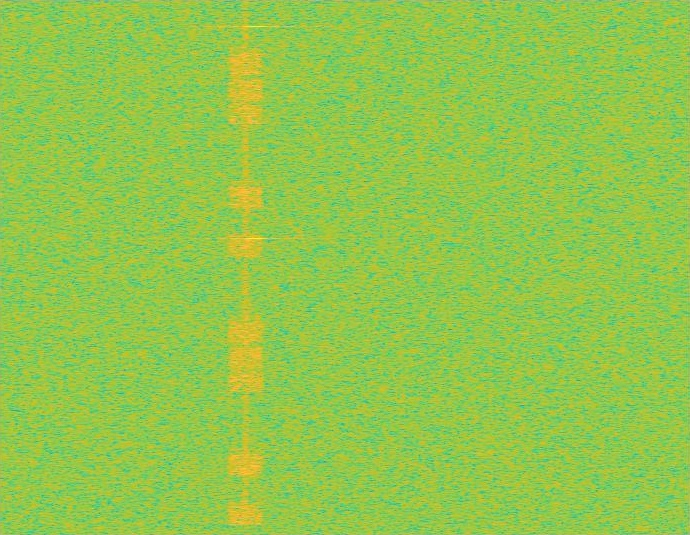DSSS: (243, 0, 248, 534)
LTE: (228, 0, 263, 534)
Radar: (248, 0, 262, 534)
